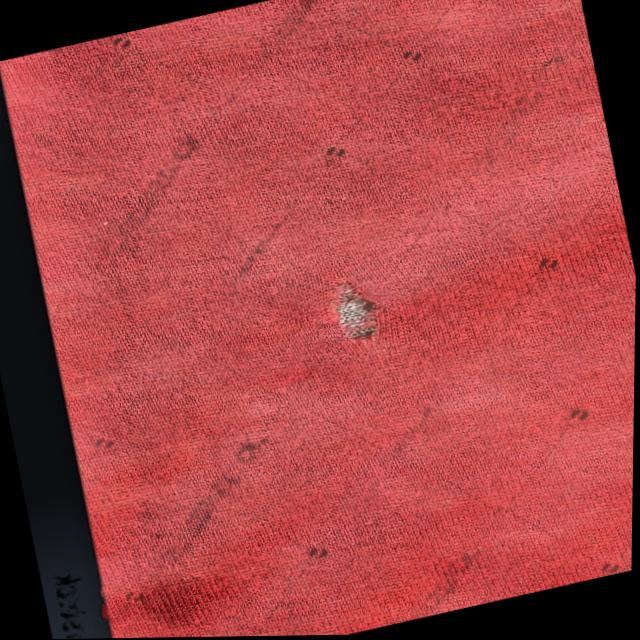Hole: (301, 262, 407, 372)
